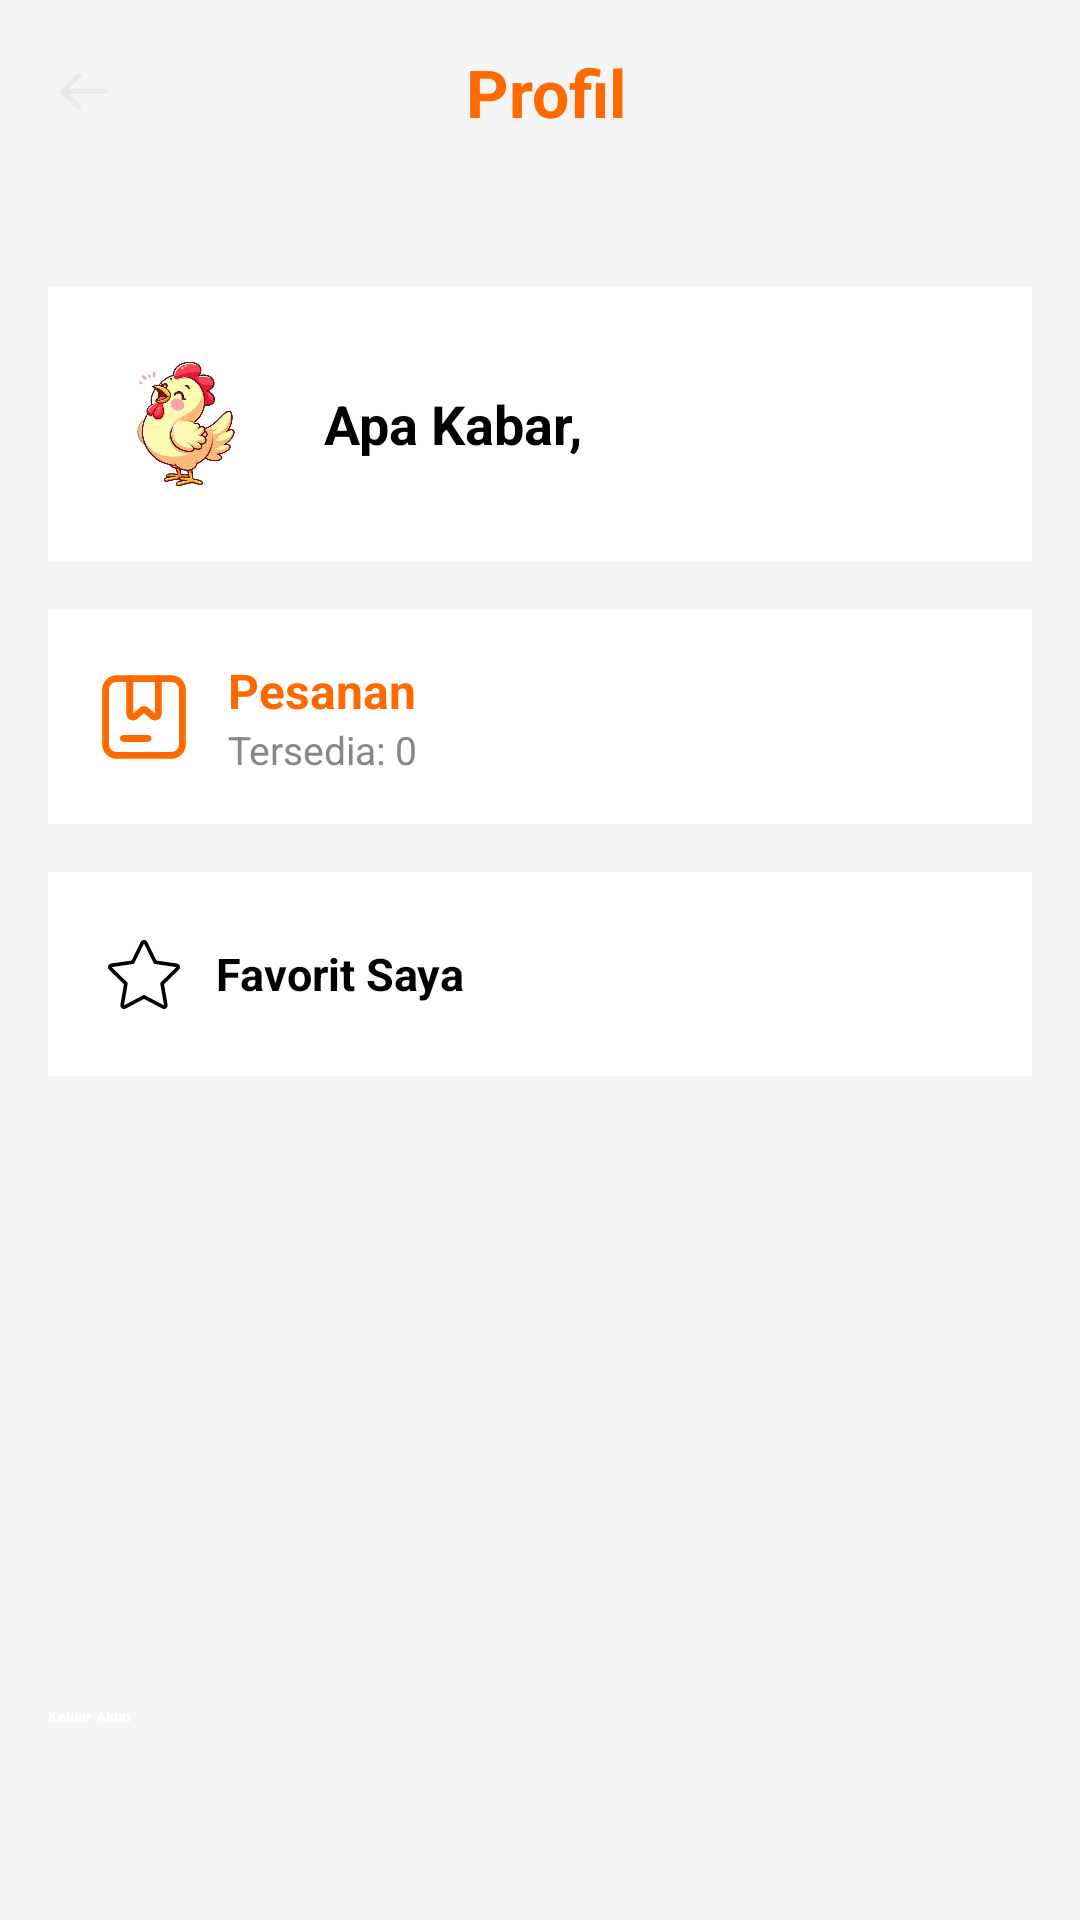

Where icons sit on this 1080 × 1920 app screen, as (x1, y1, x2, y2):
ppayam: (137, 362, 235, 487)
